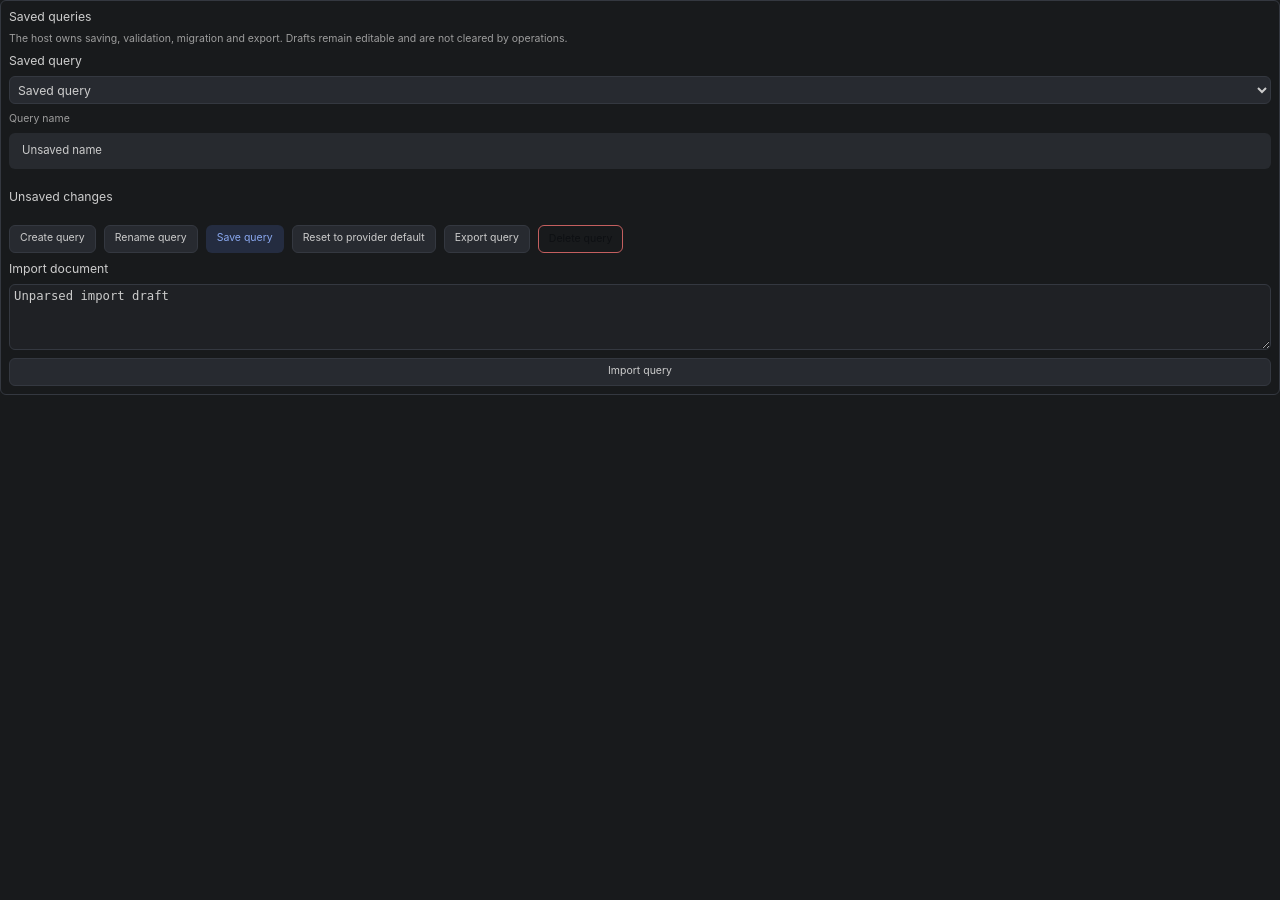
Test case: workspace review regressions › requires destructive confirmation, supports cancelling it, and forwards only the selected saved ID
Click the button "Delete query" at {"x": 581, "y": 238}, box [538,224,623,252]
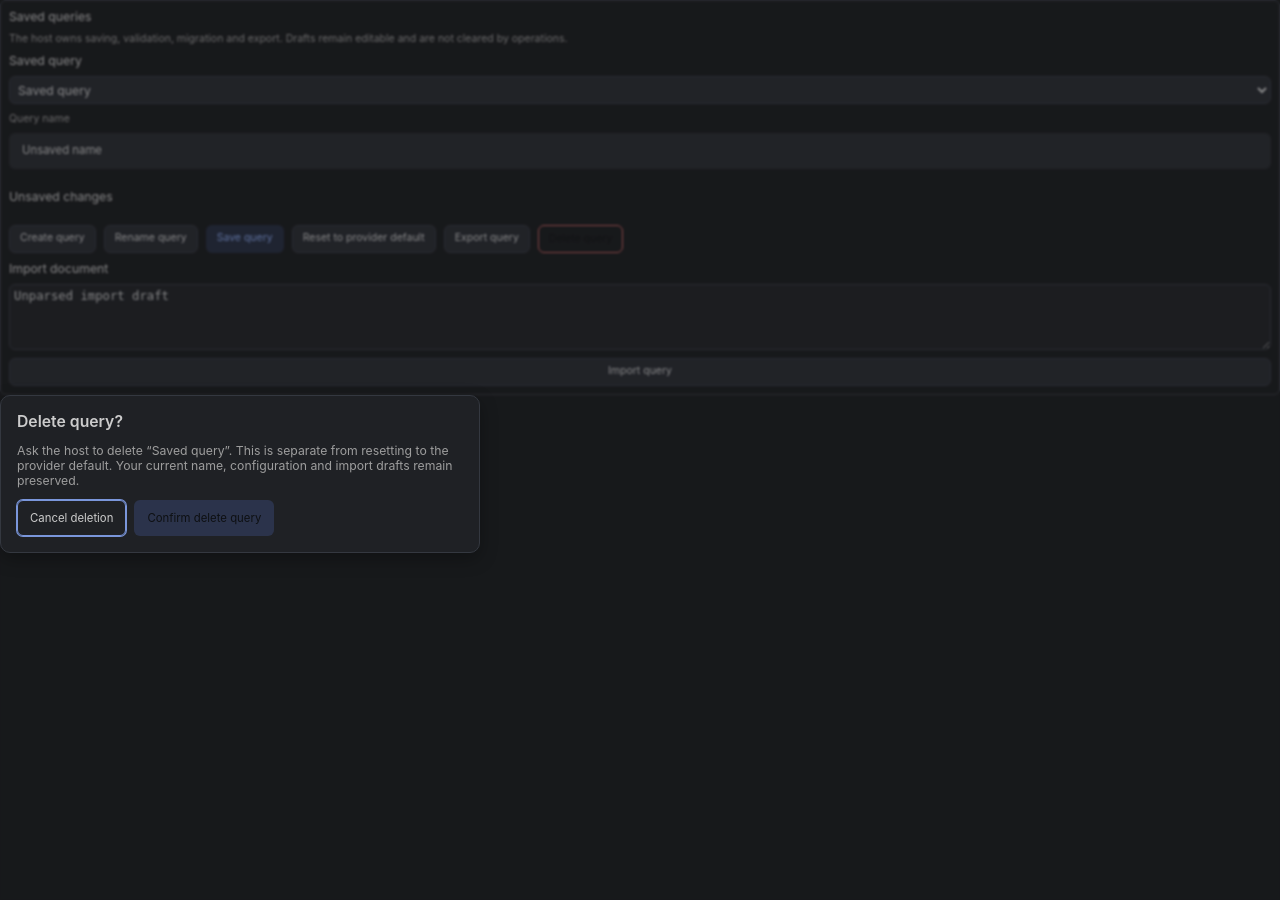
Now the dialog shows "Saved query", box [152,442,225,458]
Click the button "Cancel deletion" at {"x": 72, "y": 518}, box [17,500,126,536]
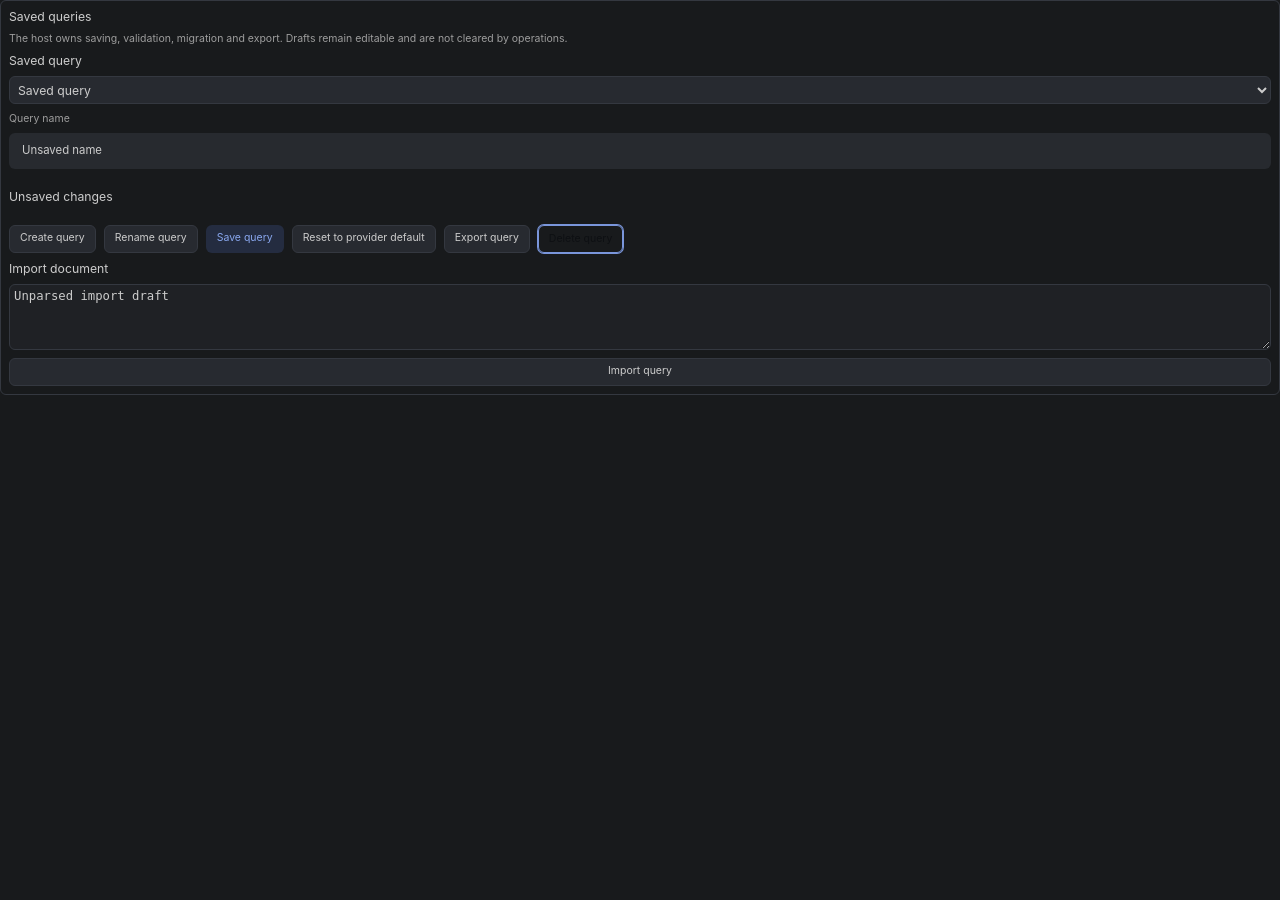
Click the button "Delete query" at {"x": 581, "y": 238}, box [538,224,623,252]
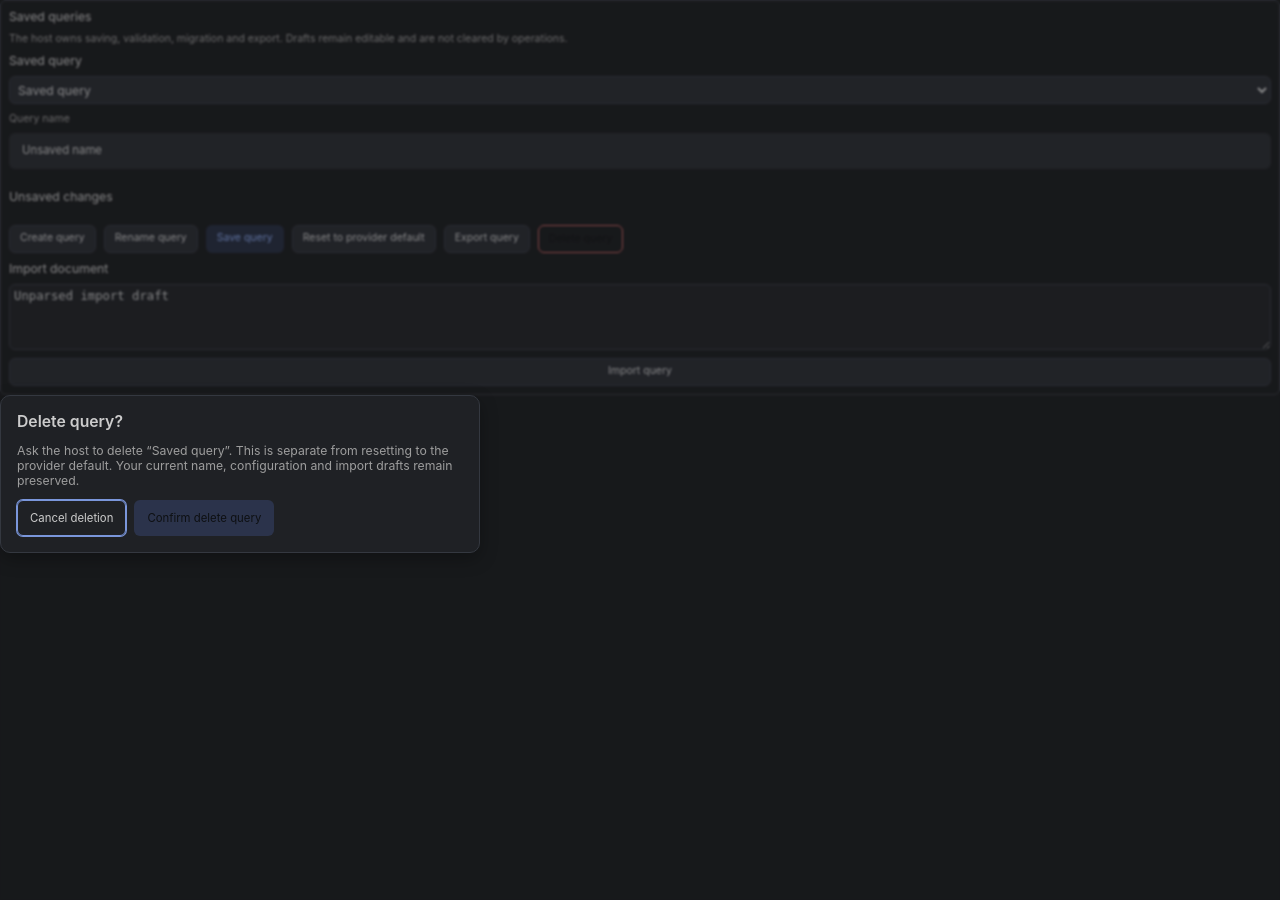
Click the button "Confirm delete query" at {"x": 204, "y": 518}, box [134,500,274,536]
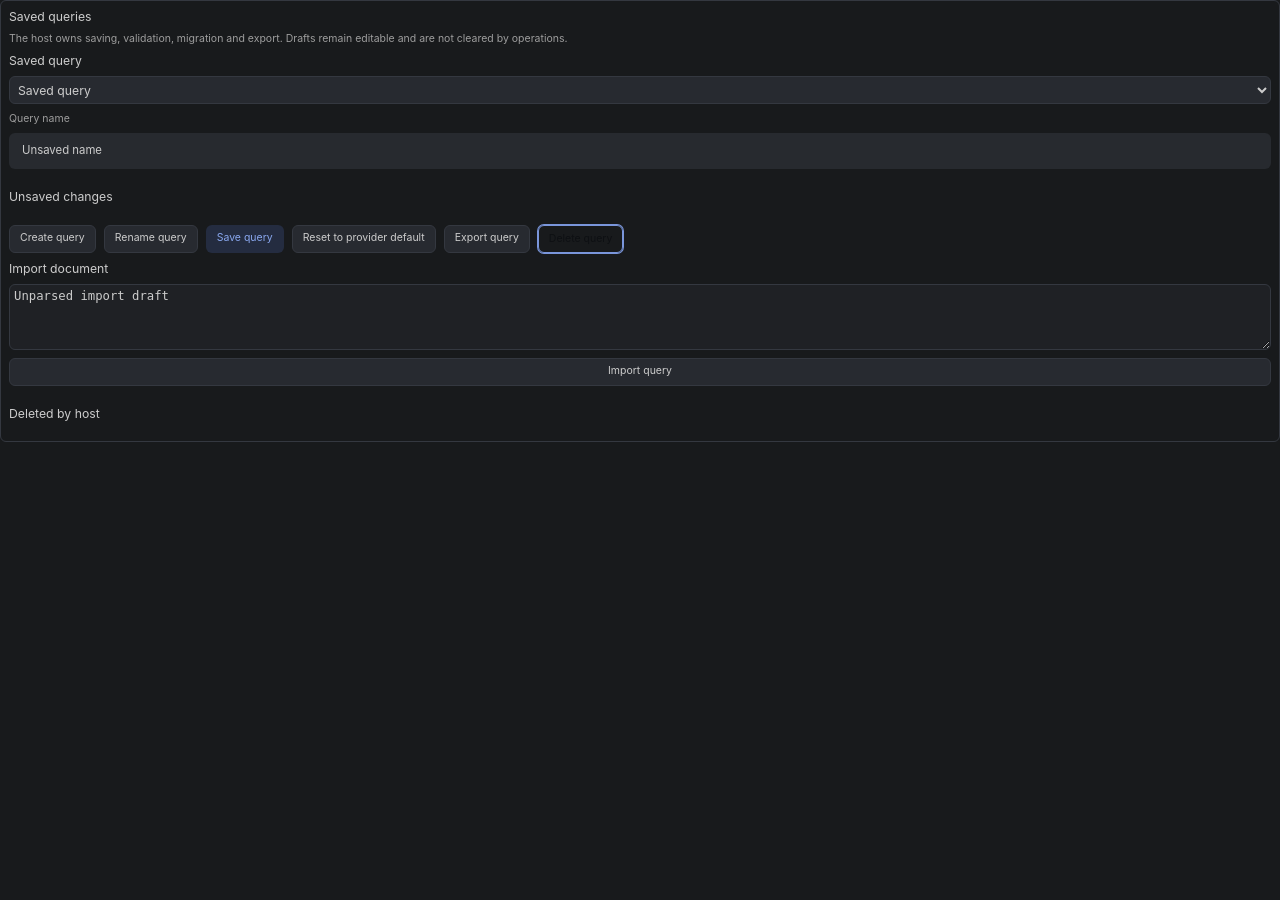
Expected: the field labelled "Query name" holds "Unsaved name", [22,143,1258,159]
Now the text "Deleted by host" is shown, box [9,406,100,421]
